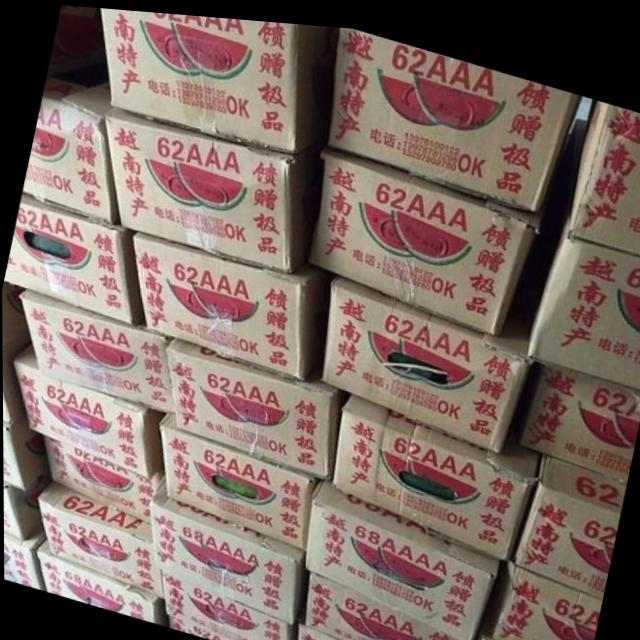box: (327, 22, 582, 203), (309, 139, 547, 329), (320, 270, 535, 445), (100, 104, 324, 271), (331, 387, 540, 552), (302, 475, 500, 636), (100, 6, 320, 150), (133, 229, 319, 378), (163, 334, 339, 475), (149, 470, 304, 620), (525, 195, 640, 380), (161, 410, 316, 545), (14, 345, 165, 476), (18, 287, 173, 410), (3, 194, 143, 324), (21, 44, 119, 224), (514, 447, 625, 589), (518, 355, 640, 471), (36, 480, 155, 594), (303, 565, 465, 640), (569, 89, 640, 245), (34, 539, 165, 622), (44, 435, 164, 520), (486, 552, 601, 640), (158, 567, 293, 640), (2, 412, 50, 489), (3, 472, 53, 541), (51, 4, 103, 59), (3, 524, 47, 589), (2, 336, 31, 422), (2, 283, 29, 348), (295, 614, 358, 640)
